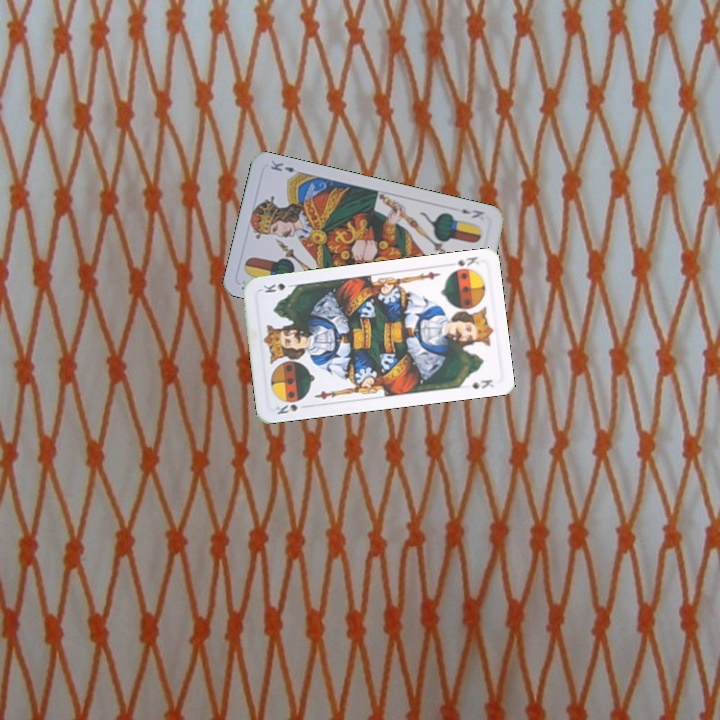EK: (458, 205, 487, 221)
SK: (452, 253, 482, 269), (272, 400, 300, 417)
